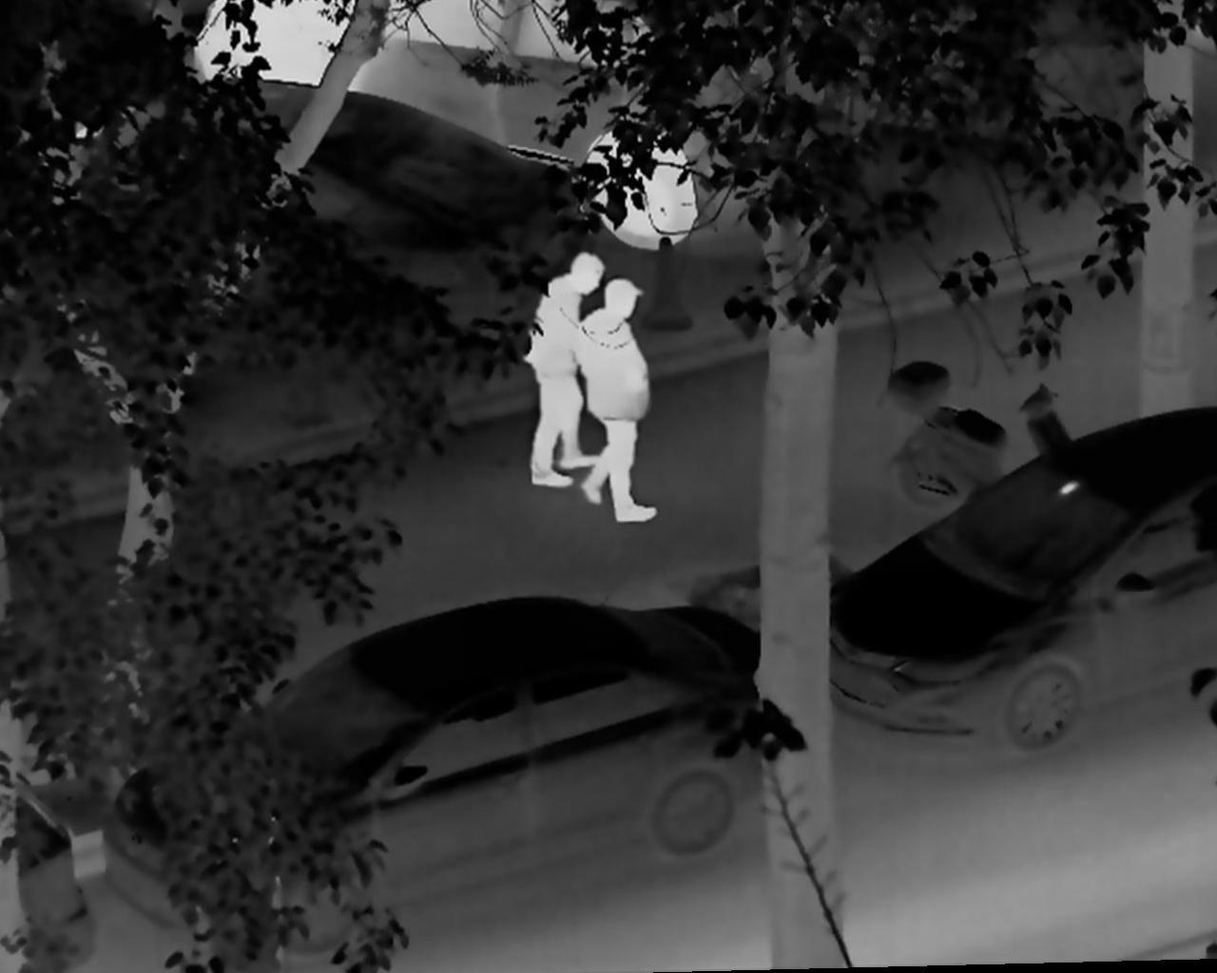person: (575, 275, 665, 527), (520, 249, 612, 492)
